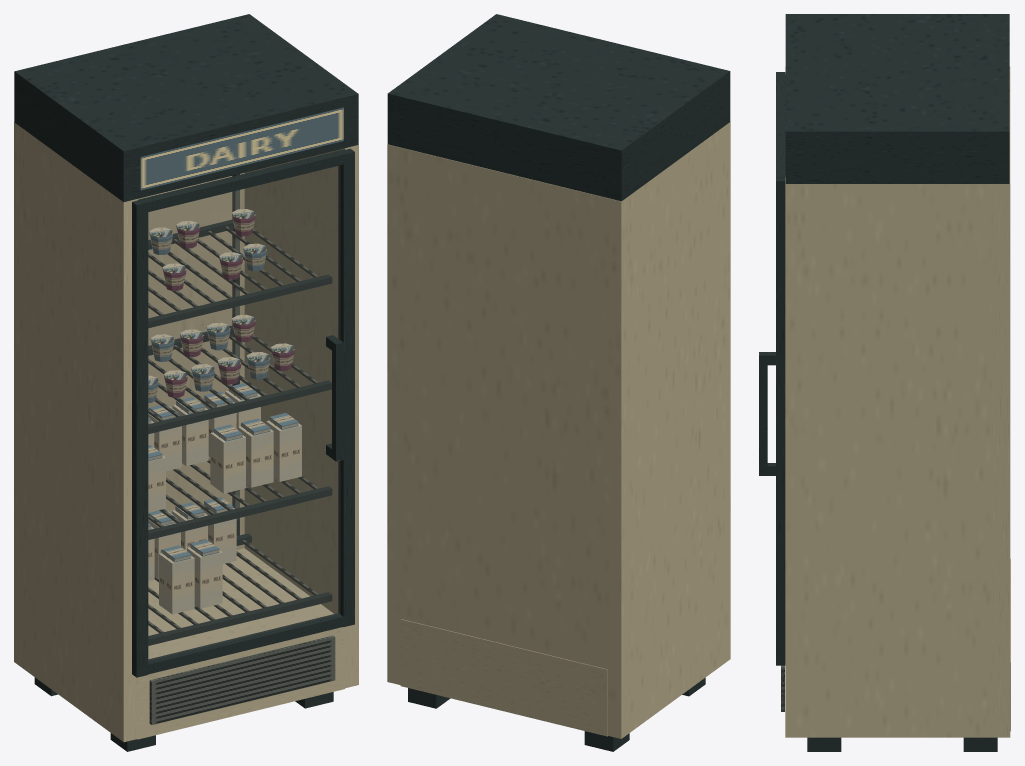
File: DairyCooler.fbx
The picture shows the model from 3 angles, left to right: view 1: azimuth 30°, elevation 25°; view 2: azimuth 150°, elevation 25°; view 3: azimuth 270°, elevation 25°; orthographic projection. The views are drawn at different scales.
Parts seen in each view (by area): view 1: DairyCooler_Body, DairyCooler_Glass; view 2: DairyCooler_Body; view 3: DairyCooler_Body.
Boxes of the visible parts, x1,y1,x2,y2 form: DairyCooler_Body: (14,14,358,751); DairyCooler_Glass: (148,166,340,660); DairyCooler_Body: (387,14,730,751); DairyCooler_Body: (759,14,1010,751).
Bounding box in the file's own units: 82 × 204 × 74.2.
